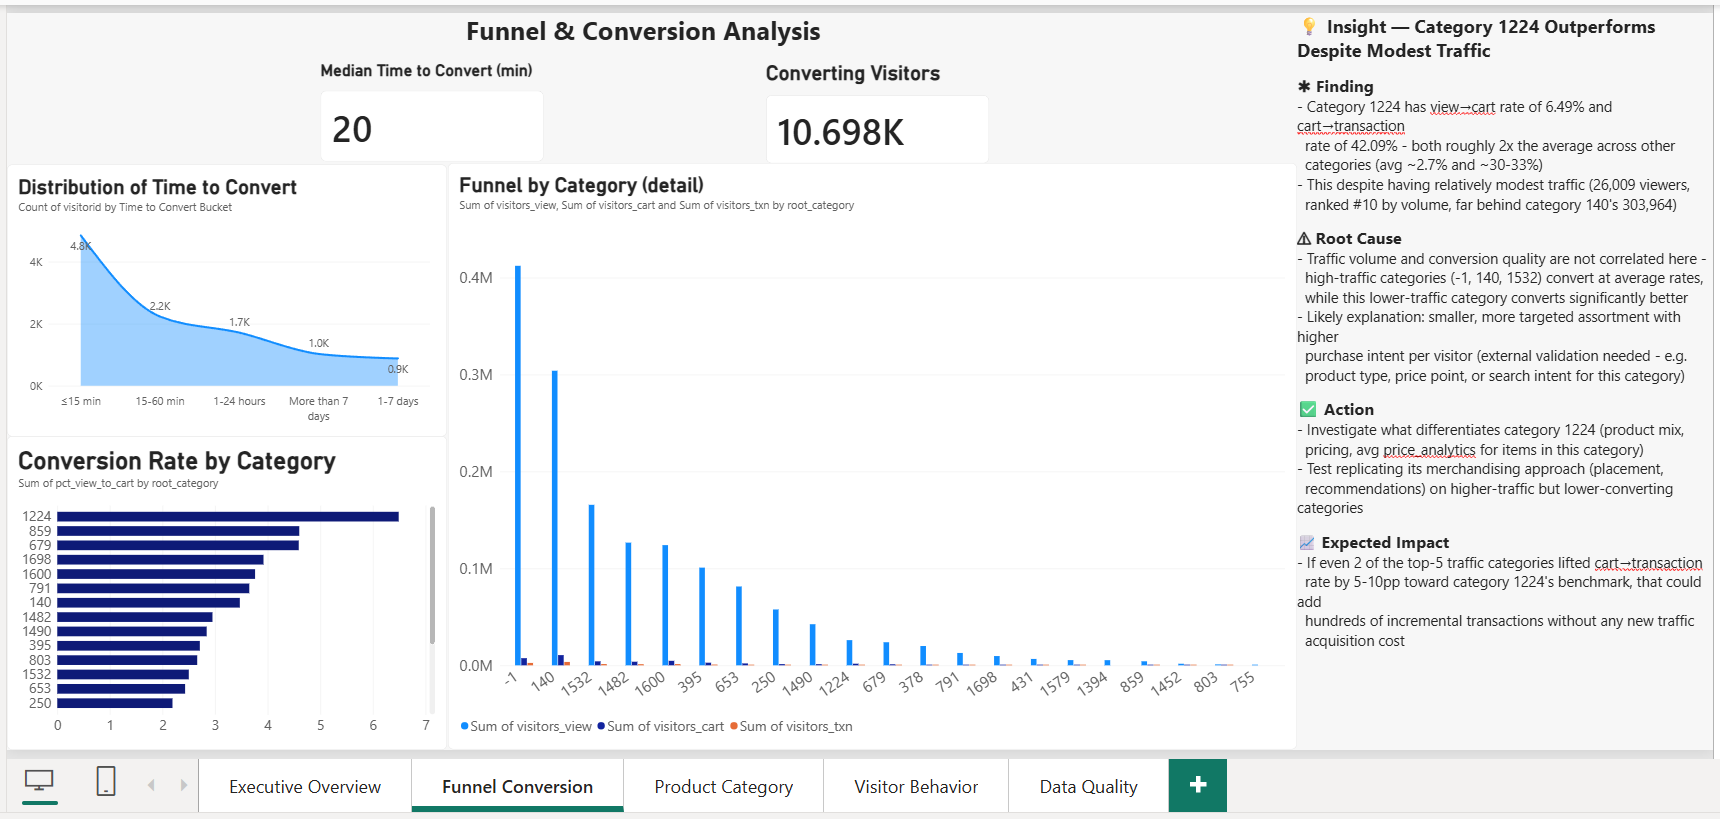

Layout of this report page (visuals, bound fields, positions):
{"tool":"powerbi","page":{"name":"Funnel_Conversion","canvas":[1920,1080],"ordinal":1},"visuals":[{"type":"textbox","box":[671.7,0,529,71.4],"z":0},{"type":"cardVisual","title":"Median Time to Convert (min)","fields":{"Data":["kpi_summary.Median Time to Convert"]},"box":[460.1,71.4,327.2,147.6],"z":1},{"type":"cardVisual","title":"Converting Visitors","fields":{"Data":["Count(mart_time_to_convert.visitorid)"]},"box":[1112.1,71.4,327,150],"z":2},{"type":"clusteredBarChart","title":"Conversion Rate by Category","fields":{"Category":["mart_funnel_by_category.root_category"],"Y":["Sum(mart_funnel_by_category.pct_view_to_cart)"]},"box":[0,620,644.7,460.1],"z":3},{"type":"clusteredColumnChart","title":"Funnel by Category (detail)","fields":{"Y":["Sum(mart_funnel_by_category.visitors_view)","Sum(mart_funnel_by_category.visitors_cart)","Sum(mart_funnel_by_category.visitors_txn)"],"Category":["mart_funnel_by_category.root_category"]},"box":[644.7,219,1274.5,861.2],"z":4},{"type":"lineChart","title":"Distribution of Time to Convert","fields":{"Y":["Count(mart_time_to_convert.visitorid)"],"Category":["mart_time_to_convert.Time to Convert Bucket"]},"box":[0,221.4,644.7,398.6],"z":5}]}

Visuals, with their boxes on the page's 1920x1080 design canvas (x1, y1, x2, y2). These are canvas units, not pixel positions in the 1720x819 screenshot, which may show the page scaled, cropped or inside an application window:
textbox: 672/0/1201/71
"Median Time to Convert (min)" cardVisual: 460/71/787/219
"Converting Visitors" cardVisual: 1112/71/1439/221
"Conversion Rate by Category" clusteredBarChart: 0/620/645/1080
"Funnel by Category (detail)" clusteredColumnChart: 645/219/1919/1080
"Distribution of Time to Convert" lineChart: 0/221/645/620
